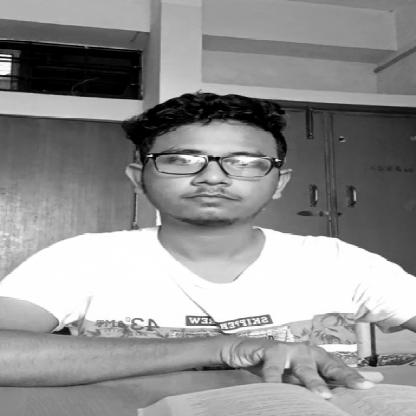Normal: (112, 99, 290, 225)
